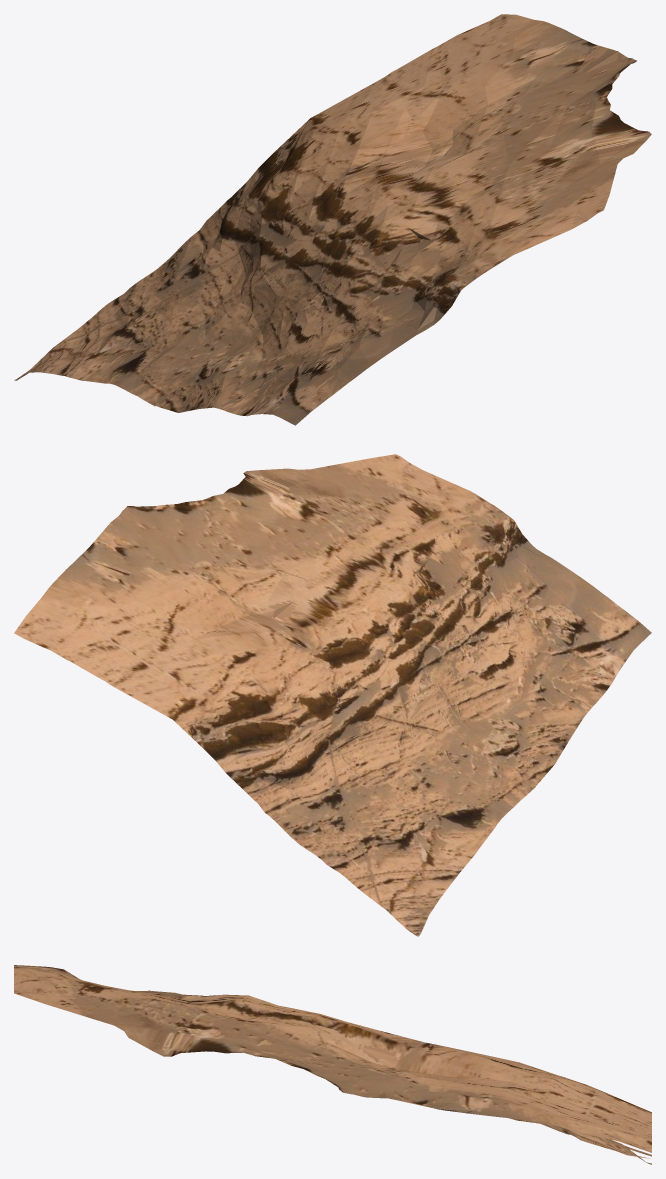
The picture shows the model from 3 angles, top to bottom: view 1: azimuth 30°, elevation 25°; view 2: azimuth 150°, elevation 25°; view 3: azimuth 270°, elevation 25°; orthographic projection. The views are drawn at different scales.
Size of the model in its own units: 1.04 by 0.6152 by 1.04.
3 materials, 3 textured.
